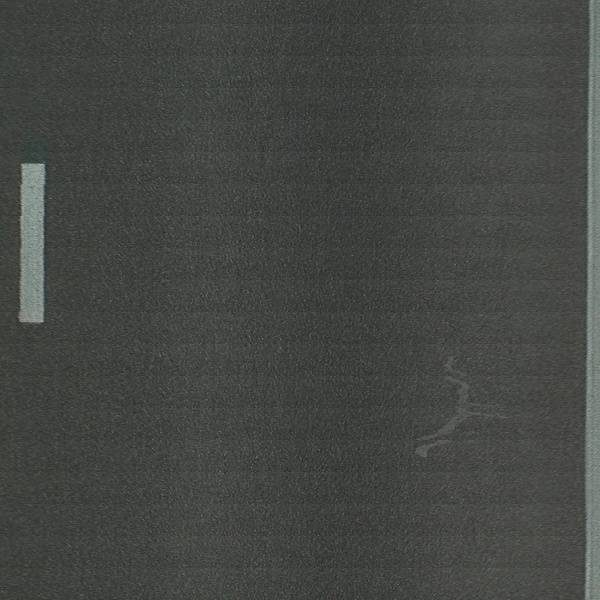road_damage: (410, 354, 494, 458)
